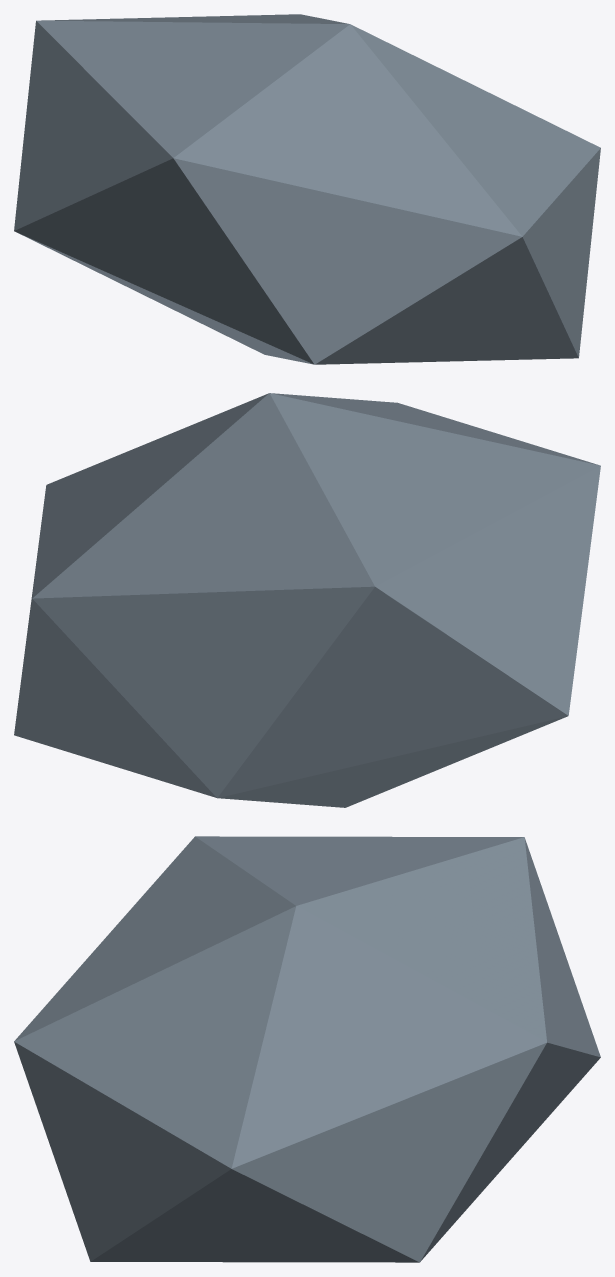
The model's file is INT_A_WallRubble_02_Stone_3.glb.
The picture shows the model from 3 angles, top to bottom: view 1: azimuth 30°, elevation 25°; view 2: azimuth 150°, elevation 25°; view 3: azimuth 270°, elevation 25°; orthographic projection. The views are drawn at different scales.
Parts seen in each view (by area): view 1: INT_A_WallRubble_02_Stone_3; view 2: INT_A_WallRubble_02_Stone_3; view 3: INT_A_WallRubble_02_Stone_3.
Part boxes in pixels (x1=…): INT_A_WallRubble_02_Stone_3: x1=14, y1=14, x2=600, y2=364; INT_A_WallRubble_02_Stone_3: x1=14, y1=393, x2=600, y2=807; INT_A_WallRubble_02_Stone_3: x1=14, y1=836, x2=600, y2=1262.
Size of the model in its own units: 0.2787 by 0.1668 by 0.274.
